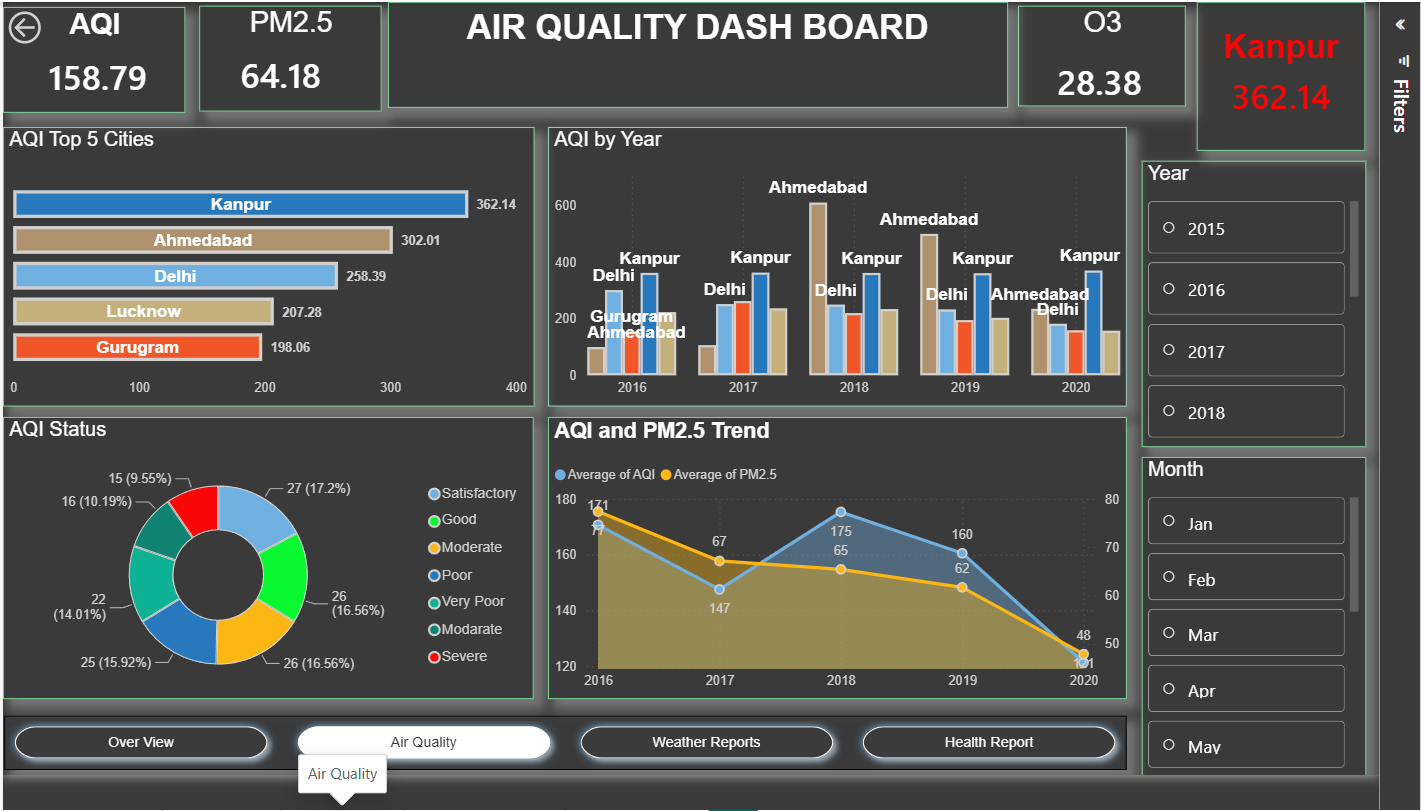

Layout of this report page (visuals, bound fields, positions):
{"tool":"powerbi","page":{"name":"Air Quality","canvas":[1280,720],"ordinal":1},"visuals":[{"type":"cardVisual","fields":{"Data":["Avg(Air_Quality_updated.AQI)"],"Rows":["City Table.City"]},"box":[1110.4,0,157.1,138.7],"z":0},{"type":"cardVisual","title":"AQI","fields":{"Data":["Avg(Air_Quality_updated.AQI)"]},"box":[0,4.9,169.3,98.2],"z":1000},{"type":"cardVisual","title":"PM2.5","fields":{"Data":["Avg(Air_Quality_updated.PM2.5)"]},"box":[182.8,3.7,169.3,98.2],"z":2000},{"type":"cardVisual","title":"O3","fields":{"Data":["Avg(Air_Quality_updated.O3)"]},"box":[944,3.7,155.8,93.3],"z":3000},{"type":"barChart","title":"AQI Top 5 Cities","fields":{"Category":["City Table.City"],"Y":["Avg(Air_Quality_updated.AQI)"],"Series":["City Table.City"]},"box":[0,116.6,494.5,260.1],"z":4000},{"type":"clusteredColumnChart","title":"AQI by Year","fields":{"Series":["City Table.City"],"Y":["Avg(Air_Quality_updated.AQI)"],"Category":["Date Table.Year"]},"box":[506.8,116.6,538.7,260.1],"z":5000},{"type":"actionButton","box":[0,3.7,99.4,40.5],"z":6000},{"type":"donutChart","title":"AQI Status","fields":{"Category":["Air_Quality_updated.AQI_Bucket"],"Y":["Count(Air_Quality_updated.City)"],"Series":["Air_Quality_updated.AQI_Bucket"]},"box":[0,386.5,493.3,262.6],"z":7000},{"type":"lineChart","title":"AQI and PM2.5 Trend","fields":{"Category":["Date Table.Year"],"Y":["Avg(Air_Quality_updated.AQI)"],"Y2":["Avg(Air_Quality_updated.PM2.5)"]},"box":[506.8,386.5,538.7,262.6],"z":8000},{"type":"advancedSlicerVisual","fields":{"Values":["Date Table.Year"]},"box":[1058.9,147.2,208.6,266.3],"z":9000},{"type":"advancedSlicerVisual","fields":{"Values":["Date Table.Month"]},"box":[1058.9,423.1,208.6,296.9],"z":10000},{"type":"pageNavigator","box":[1.2,663.8,1044.2,50.3],"z":11000},{"type":"textbox","box":[358.3,0,576.7,98.2],"z":12000}]}

Visuals, with their boxes on the page's 1280x720 design canvas (x1, y1, x2, y2). These are canvas units, not pixel positions in the 1421x811 screenshot, which may show the page scaled, cropped or inside an application window:
cardVisual - Avg(Air_Quality_updated.AQI) x City Table.City: x1=1110, y1=0, x2=1268, y2=139
"AQI" cardVisual: x1=0, y1=5, x2=169, y2=103
"PM2.5" cardVisual: x1=183, y1=4, x2=352, y2=102
"O3" cardVisual: x1=944, y1=4, x2=1100, y2=97
"AQI Top 5 Cities" barChart: x1=0, y1=117, x2=494, y2=377
"AQI by Year" clusteredColumnChart: x1=507, y1=117, x2=1046, y2=377
actionButton: x1=0, y1=4, x2=99, y2=44
"AQI Status" donutChart: x1=0, y1=386, x2=493, y2=649
"AQI and PM2.5 Trend" lineChart: x1=507, y1=386, x2=1046, y2=649
advancedSlicerVisual - Date Table.Year: x1=1059, y1=147, x2=1268, y2=414
advancedSlicerVisual - Date Table.Month: x1=1059, y1=423, x2=1268, y2=720
pageNavigator: x1=1, y1=664, x2=1045, y2=714
textbox: x1=358, y1=0, x2=935, y2=98
